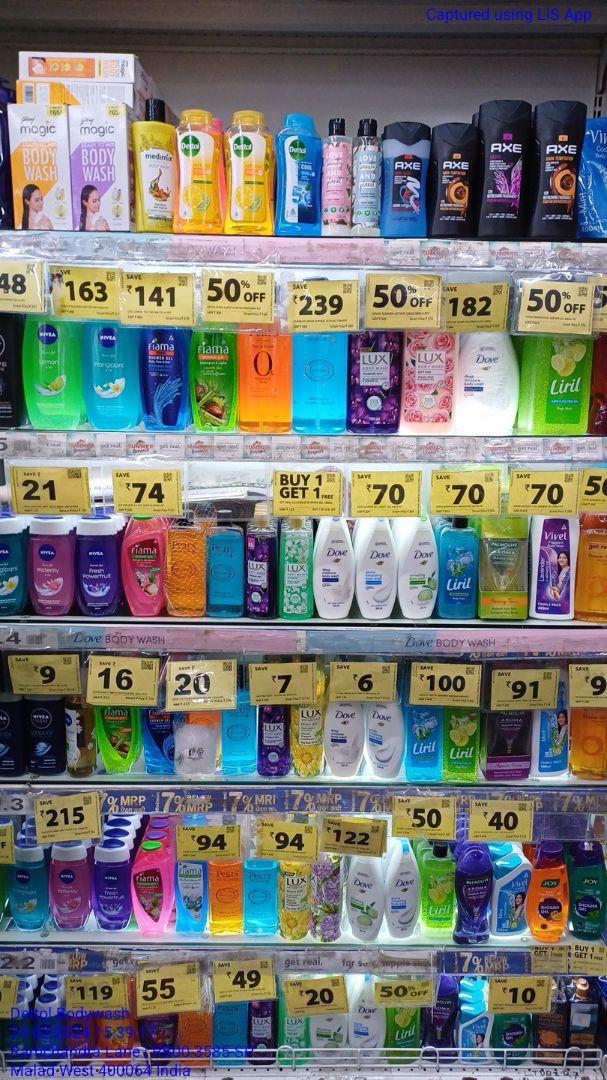Dettol_Bodywash_Cool: (276, 112, 323, 239)
Dettol_Bodywash_Refresh: (175, 106, 225, 235), (230, 112, 273, 235)
Dove_Deep_Moisture_Body_Wash_250ML: (316, 520, 354, 621), (325, 702, 361, 773)
Dove_Gentle_Exfoliating_Body_Wash_250ML: (357, 519, 397, 620), (348, 977, 384, 1067), (365, 698, 400, 779), (388, 855, 421, 936)
Dove_Refreshing_Body_Wash_250ML: (400, 518, 437, 618), (346, 855, 385, 943), (313, 1015, 345, 1070)
Fiama_Shower_Gel_Lemongrass_and_Jojoba_250ML: (96, 703, 136, 771)
Fiama_Shower_Gel_Patchouli_and_Macadamia_250ML: (125, 516, 165, 616), (135, 844, 174, 935)
Fiama_Shower_Gel_Peach_and_Avocado_250ML: (97, 1014, 136, 1073)
Get_Real_Shower_Gel_Moisturising_Glycerin_300ML: (571, 710, 603, 781)
Joy_Shower_Gel_Mandarin_and_Lemongrass_250ML: (528, 849, 568, 944)
Joy_Shower_Gel_Mint_and_Eucalyptus_250ML: (571, 839, 606, 938), (495, 1014, 529, 1066)
Liril_Cooling_Mint_Body_Wash_250ML: (440, 518, 479, 618), (403, 706, 439, 776)
Liril_Lime_and_Tea_Tree_Oil_Body_Wash_250ML: (423, 841, 454, 929), (442, 705, 478, 780), (387, 1007, 421, 1069)
Lux_Black_Orchid_Scent_and_Juniper_Oil_Body_Wash_245ML: (246, 513, 276, 618), (259, 702, 288, 778), (249, 999, 275, 1065)
Lux_Body_Wash_Skin_Detox_Freesia_Scent_and_Alove_Vera_245ML: (280, 518, 313, 620), (279, 1014, 310, 1065)
Nivea_Shower_Gel_Frangipani_and_Oil_250ML: (84, 324, 142, 427), (9, 847, 45, 932)
Nivea_Shower_Gel_Fresh_Powerfruit_250ML: (77, 515, 120, 618), (94, 840, 132, 930)
Nivea_Shower_Gel_Lemon_and_Oil_250ML: (24, 323, 81, 430)
Nivea_Shower_Gel_Waterlily_and_Oil_250ML: (27, 520, 75, 617), (46, 843, 92, 929)
Palmolive_Aroma_Relax_250ML: (456, 840, 488, 945), (424, 979, 458, 1063)
Pears_Pure_Glycerin_and_Mint_Extracts_Body_Wash_250ML: (207, 509, 244, 618), (243, 861, 274, 937), (222, 706, 257, 770), (214, 1001, 246, 1066)
